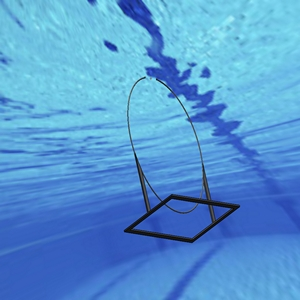circle: (120, 74, 241, 244)
